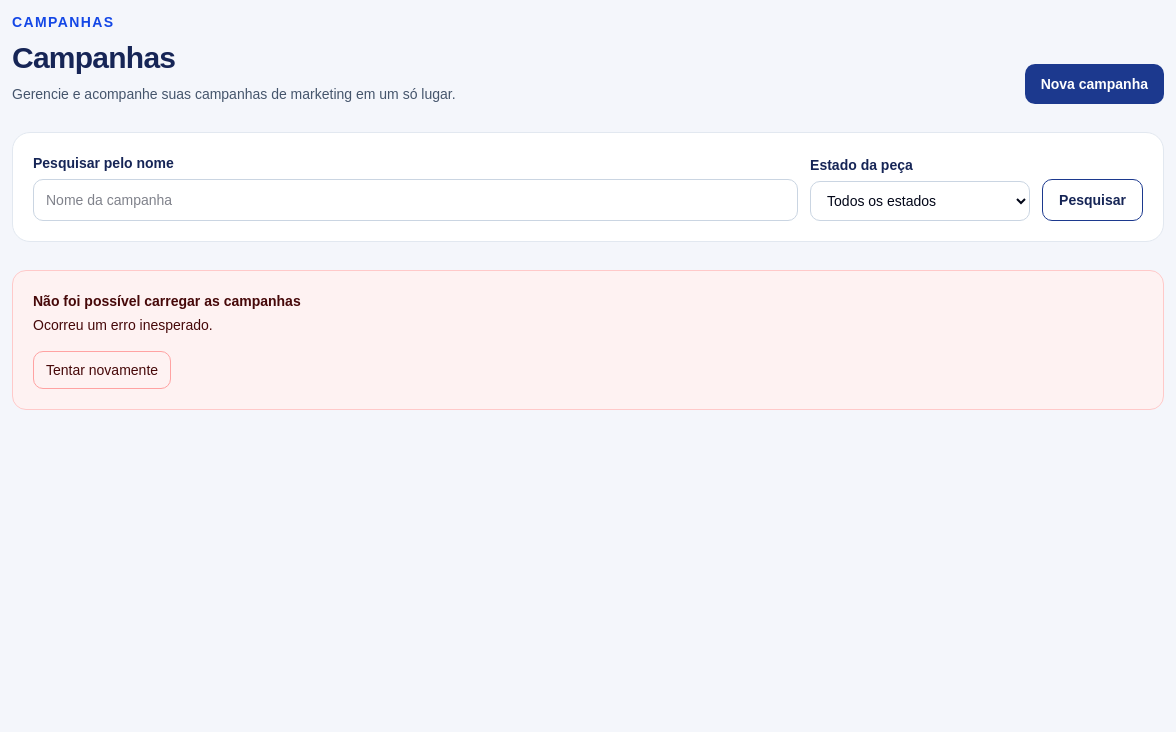
Test case: listagem de campanhas › permite repetir a consulta após falha de conexão
Expected: the text "Não foi possível carregar as campanhas" is shown, [33,293,301,309]
What coordinates should you click on to do the following:
click the button "Tentar novamente"
I would click on:
 (102, 370)
Its box is [33,351,171,389].
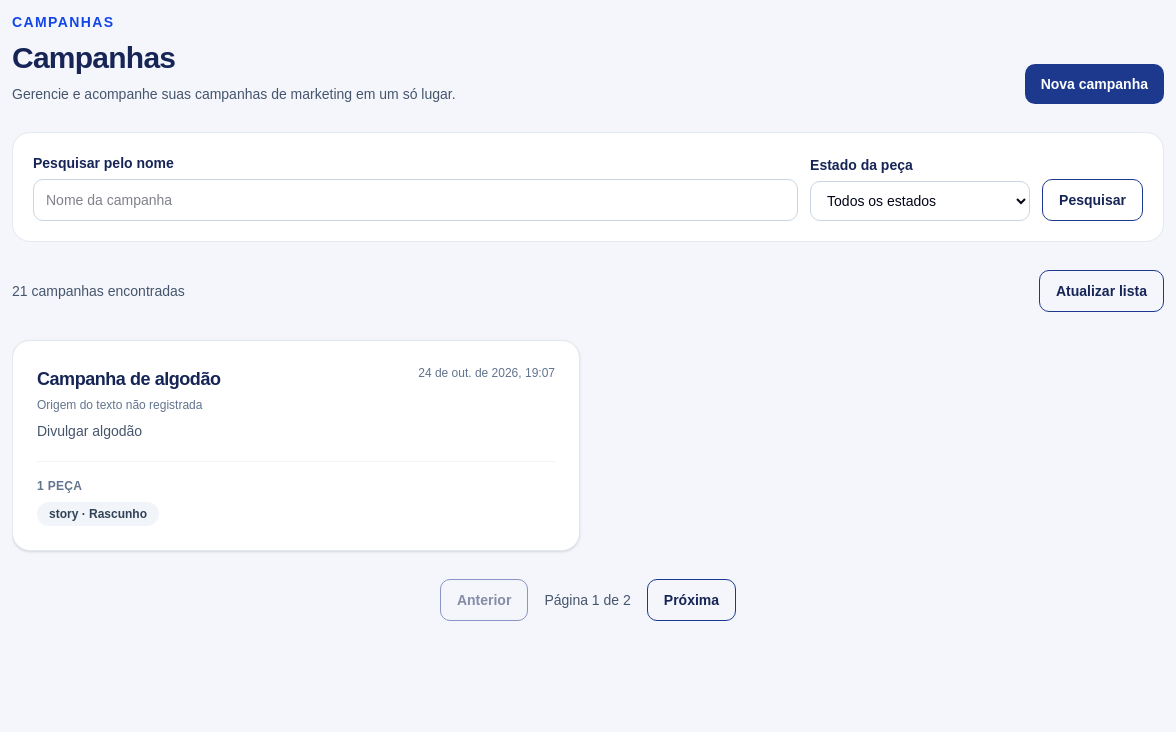
Expected: the heading "Campanha de algodão" is shown, [37,365,220,393]
